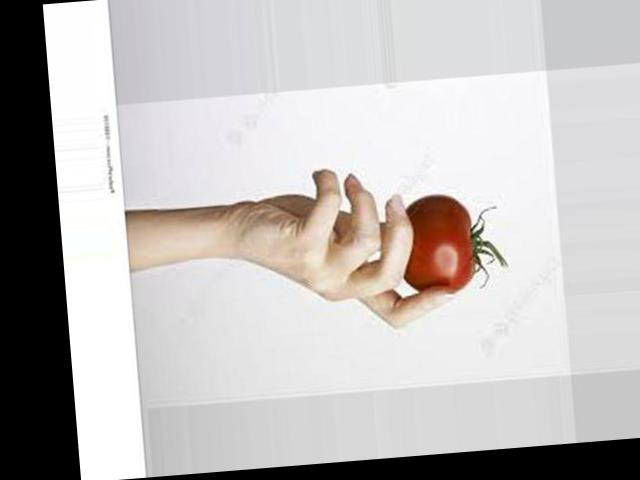tomato: (398, 190, 507, 295)
